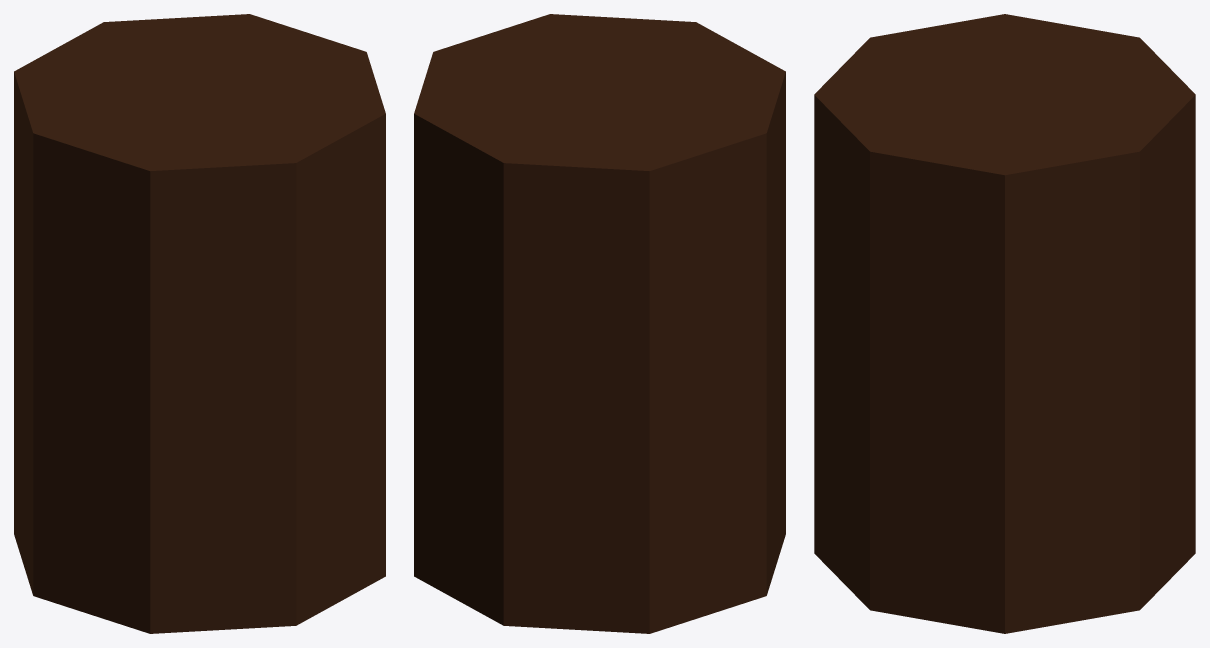
The model's file is stump.glb.
3 renders of one model, left to right at view 1: azimuth 30°, elevation 25°; view 2: azimuth 150°, elevation 25°; view 3: azimuth 270°, elevation 25°, orthographic.
Parts seen in each view (by area): view 1: Cylinder; view 2: Cylinder; view 3: Cylinder.
Part boxes in pixels (x1,y1,x2,y2): Cylinder: (14, 14, 385, 633); Cylinder: (414, 14, 785, 633); Cylinder: (814, 14, 1195, 633).
Size of the model in its own units: 0.6032 by 0.8 by 0.6032.
